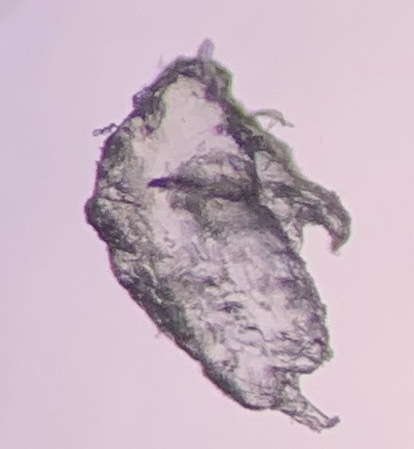microplastic: (83, 36, 353, 435)
